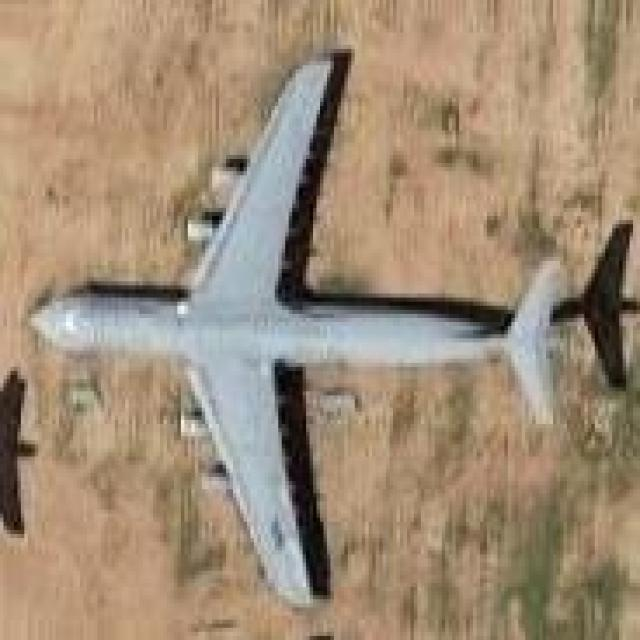C-5_TopDown: (24, 45, 640, 611)
